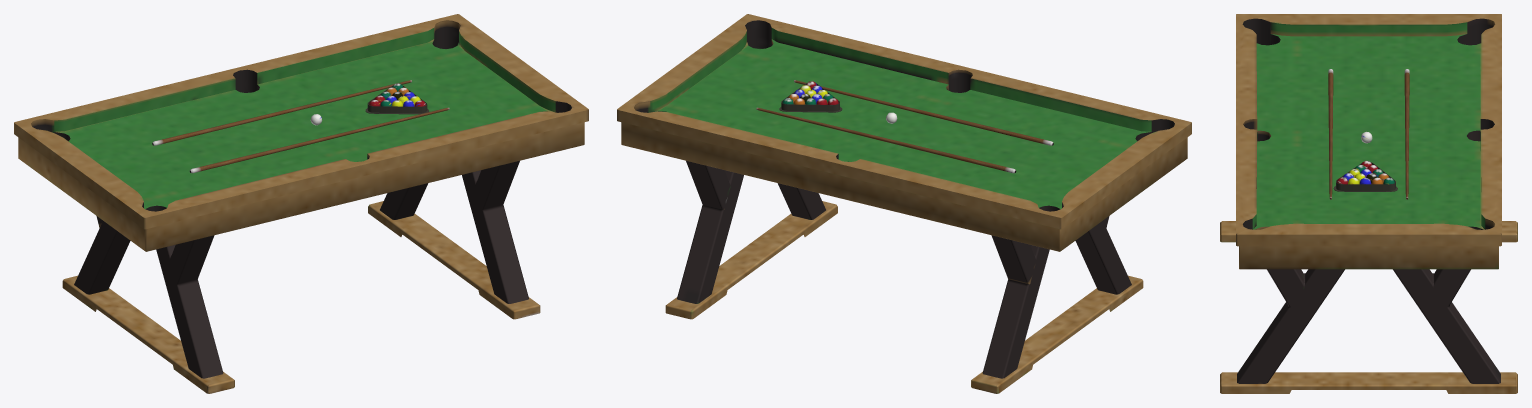
File: Billiard.fbx
The picture shows the model from 3 angles, left to right: view 1: azimuth 30°, elevation 25°; view 2: azimuth 150°, elevation 25°; view 3: azimuth 270°, elevation 25°; orthographic projection.
Visible parts, largest first — view 1: Pool Table, Pool Table Feet, Stick, Balls Rack; view 2: Pool Table, Pool Table Feet, Stick, Balls Rack; view 3: Pool Table, Pool Table Feet, Stick, Balls Rack.
Boxes of the visible parts, x1,y1,x2,y2 form: Pool Table: [14, 14, 588, 251]; Pool Table Feet: [62, 161, 540, 393]; Stick: [152, 80, 449, 173]; Balls Rack: [365, 85, 429, 114]; Pool Table: [617, 14, 1191, 251]; Pool Table Feet: [665, 161, 1143, 393]; Stick: [756, 80, 1053, 173]; Balls Rack: [779, 83, 842, 112]; Pool Table: [1236, 14, 1501, 269]; Pool Table Feet: [1220, 221, 1517, 393]; Stick: [1328, 69, 1409, 199]; Balls Rack: [1333, 162, 1397, 191].
Size of the model in its own units: 259 by 102 by 148.
